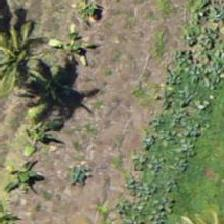coconut_tree: (0, 11, 59, 101)
